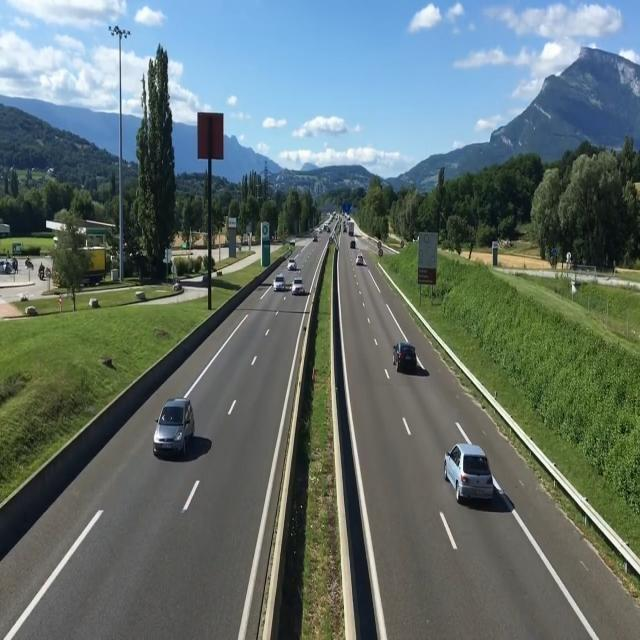Car: (444, 442, 496, 503), (152, 397, 196, 458), (392, 341, 417, 373), (290, 277, 306, 295), (274, 274, 286, 292), (287, 257, 297, 272), (355, 255, 364, 266)
Truck: (346, 220, 356, 238)
